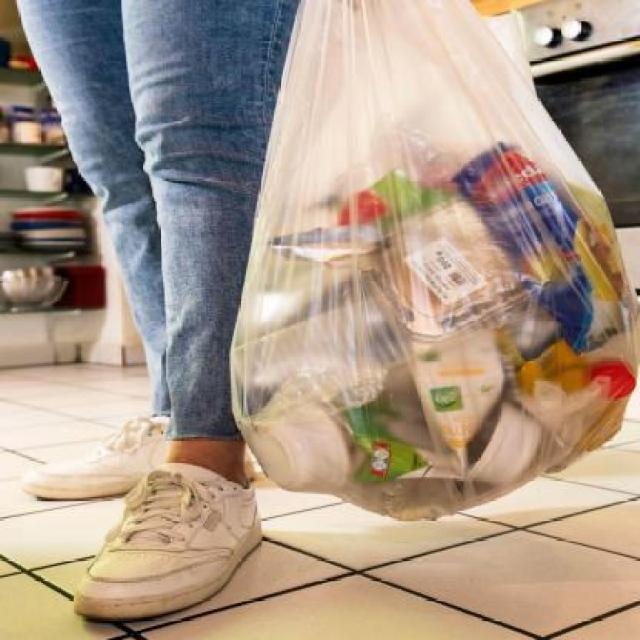plastic bag: (228, 0, 639, 540)
